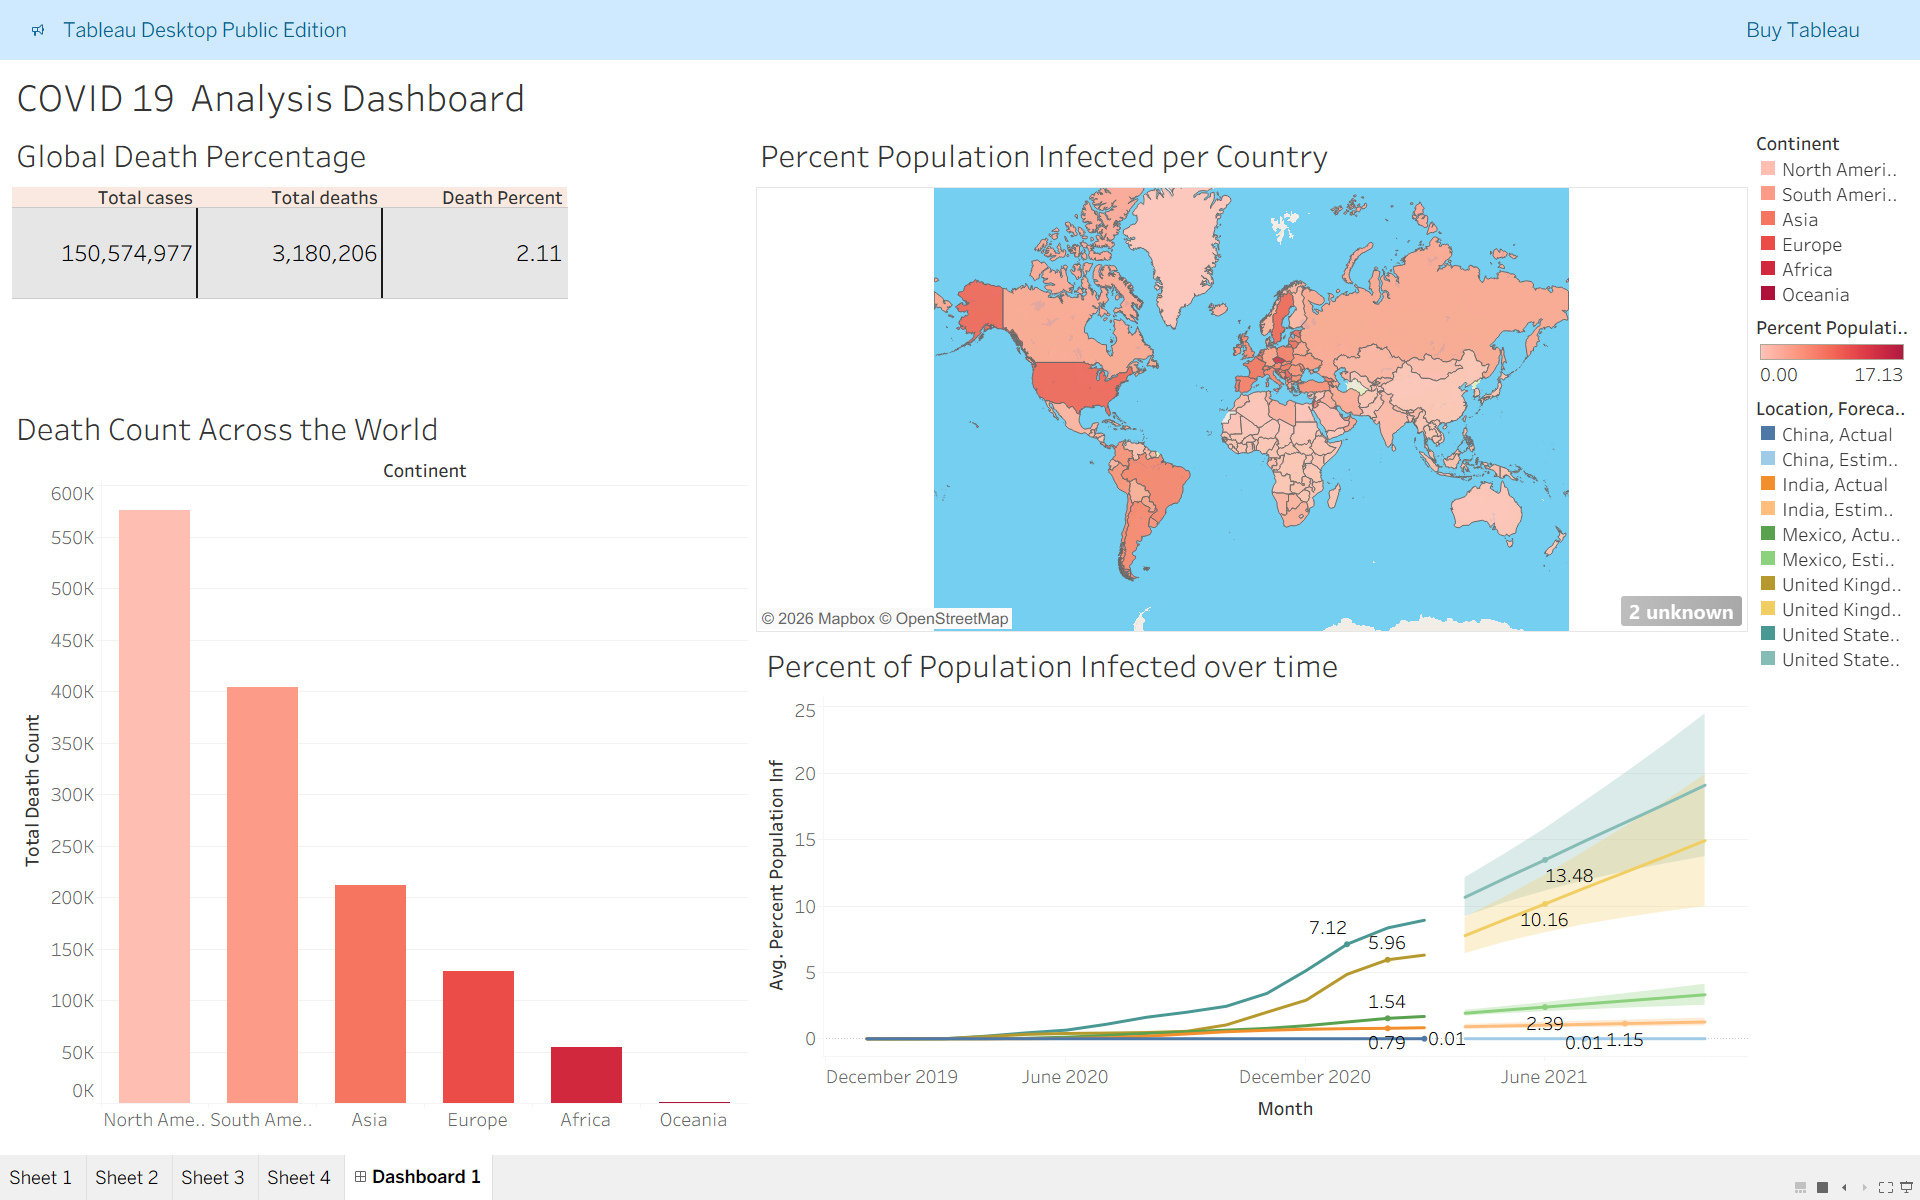

What the dashboard file says about the page in this screenshot:
{"tool":"tableau","page":{"name":"Dashboard 1","canvas":[1000,1000],"units":"permille","ordinal":0},"visuals":[{"type":"worksheet","title":"Sheet 1","mark":"Automatic","box":[5,9.2,379.9,262.1]},{"type":"worksheet","title":"Sheet 3","mark":"Automatic","box":[384.9,9.2,510.4,490.8]},{"type":"legend","title":"Sheet 2","param":"[federated.1n756s10486lcc1af3n0009l0sag].[none:continent:nk]","box":[895.3,9.2,99.8,212.5]},{"type":"legend","title":"Sheet 3","param":"[federated.1pyhbxp1fo3hv91csax3t1o9loek].[sum:percent_population_inf:qk]","box":[895.3,221.7,99.8,93.5]},{"type":"worksheet","title":"Sheet 2","mark":"Automatic","rows":["TotalDeathCount"],"cols":["continent"],"box":[5,271.4,379.9,719.4]},{"type":"legend","title":"Sheet 4","param":"[federated.03l6a931a791n91fxfb4d053hpe2].[none:location:nk]\n[federated.03l6a931a","box":[895.3,315.2,99.8,327.9]},{"type":"worksheet","title":"Sheet 4","mark":"Automatic","rows":["percent_population_inf"],"cols":["DATE"],"box":[384.9,500,510.4,490.8]}]}

Visuals, with their boxes on the dashboard's canvas, which has no fixed pixel size, in thousandths of its width and height (x1, y1, x2, y2). These are canvas units, not pixel positions in the 1920x1200 screenshot, which may show the page scaled, cropped or inside an application window:
"Sheet 1" worksheet: bbox(5, 9, 385, 271)
"Sheet 3" worksheet: bbox(385, 9, 895, 500)
"Sheet 2" legend: bbox(895, 9, 995, 222)
"Sheet 3" legend: bbox(895, 222, 995, 315)
"Sheet 2" worksheet: bbox(5, 271, 385, 991)
"Sheet 4" legend: bbox(895, 315, 995, 643)
"Sheet 4" worksheet: bbox(385, 500, 895, 991)
